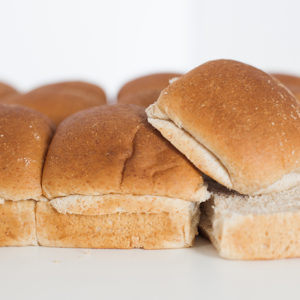hamburger_buns: (52, 107, 222, 263), (140, 52, 300, 188)
